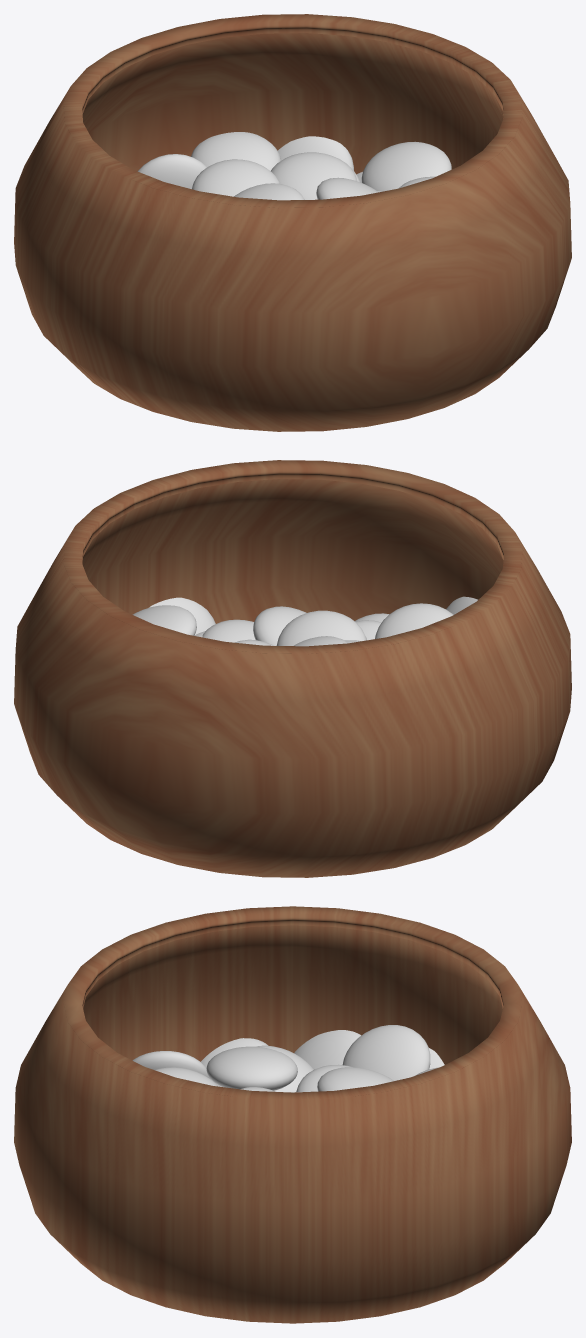
File: WhiteStones.fbx
3 renders of one model, top to bottom at view 1: azimuth 30°, elevation 25°; view 2: azimuth 150°, elevation 25°; view 3: azimuth 270°, elevation 25°, orthographic.
Visible parts, largest first — view 1: Container, White.098; view 2: Container, White.098; view 3: Container, White.098.
Boxes of the visible parts, x1,y1,x2,y2 form: Container: [14, 14, 571, 431]; White.098: [137, 132, 451, 200]; Container: [14, 460, 571, 877]; White.098: [132, 596, 477, 646]; Container: [14, 906, 571, 1323]; White.098: [132, 1025, 444, 1092].
Size of the model in its own units: 1217 by 537 by 1217.
